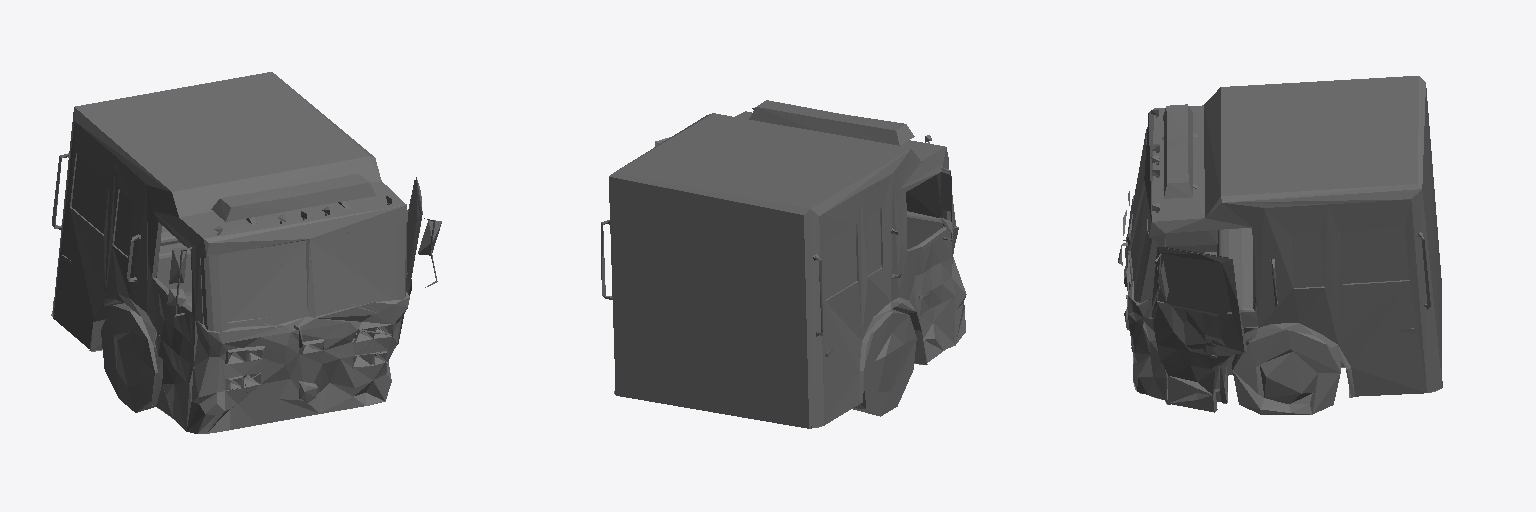
File: truck.obj
3 views of the same model, side by side, from view 1: azimuth 30°, elevation 25°; view 2: azimuth 150°, elevation 25°; view 3: azimuth 270°, elevation 25° (orthographic).
Parts seen in each view (by area): view 1: 0, 5, 3, 2, 1; view 2: 0, 3, 5, 2; view 3: 0, 5, 3, 1, 2.
Boxes of the visible parts, box(x1,y1,x2,y2) form: 0: box(52, 72, 441, 433); 5: box(72, 153, 420, 331); 3: box(101, 303, 157, 412); 2: box(155, 279, 411, 382); 1: box(52, 226, 191, 311); 0: box(601, 100, 966, 428); 3: box(853, 309, 916, 416); 5: box(661, 140, 955, 299); 2: box(914, 233, 954, 315); 0: box(1118, 76, 1442, 412); 5: box(1131, 127, 1408, 314); 3: box(1232, 329, 1340, 414); 1: box(1166, 228, 1440, 404); 2: box(1152, 305, 1230, 369).
Bounding box in the file's own units: 3.65 × 3.2 × 3.75.